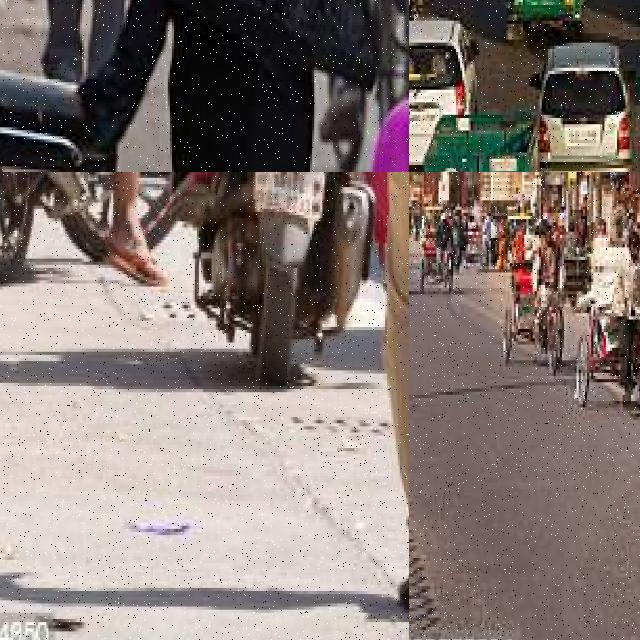bike: (188, 172, 376, 392), (0, 172, 190, 280), (409, 0, 426, 26)
